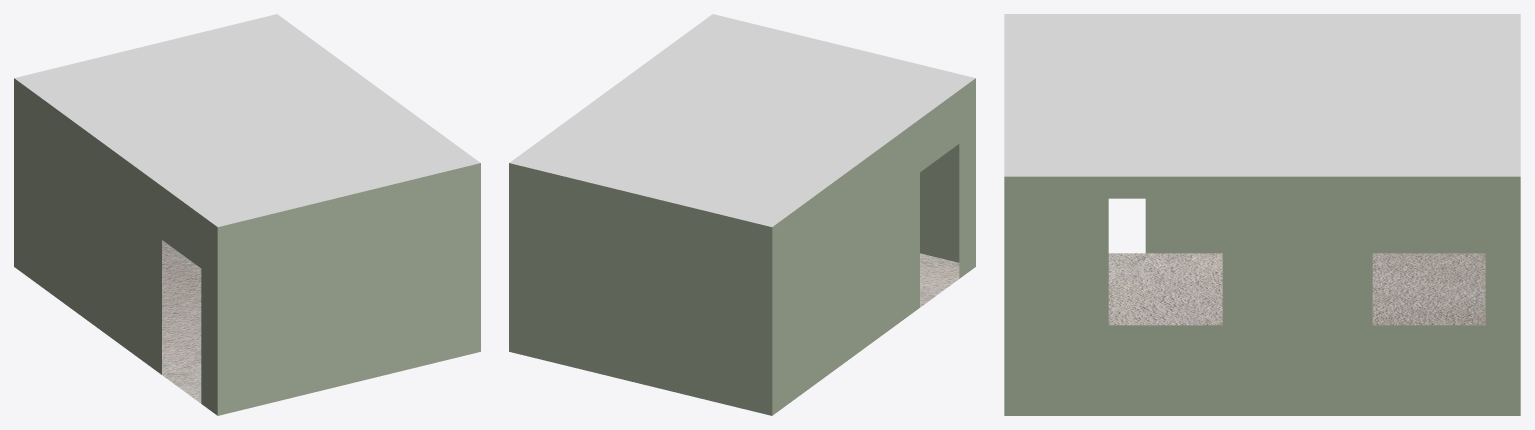
The model's file is Room.fbx.
3 views of the same model, side by side, from view 1: azimuth 30°, elevation 25°; view 2: azimuth 150°, elevation 25°; view 3: azimuth 270°, elevation 25° (orthographic). The views are drawn at different scales.
Parts seen in each view (by area): view 1: Room; view 2: Room; view 3: Room.
Boxes of the visible parts, left/top/right/bottom form: Room: left=14, top=14, right=480, bottom=415; Room: left=509, top=14, right=975, bottom=415; Room: left=1004, top=14, right=1520, bottom=415.
Bounding box in the file's own units: 11.71 × 8.03 × 15.71.
